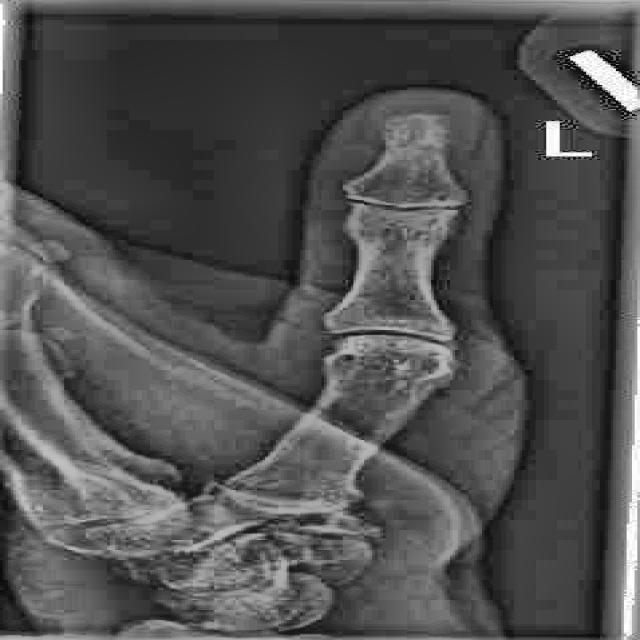fingers positive: (365, 125, 473, 173)
